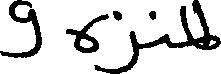9: (0, 0, 41, 58)
ا: (192, 0, 209, 47), (175, 4, 192, 41)
ز: (112, 8, 140, 72)
م: (189, 33, 219, 50)
ن: (148, 9, 169, 48)
ه: (64, 11, 107, 55)
